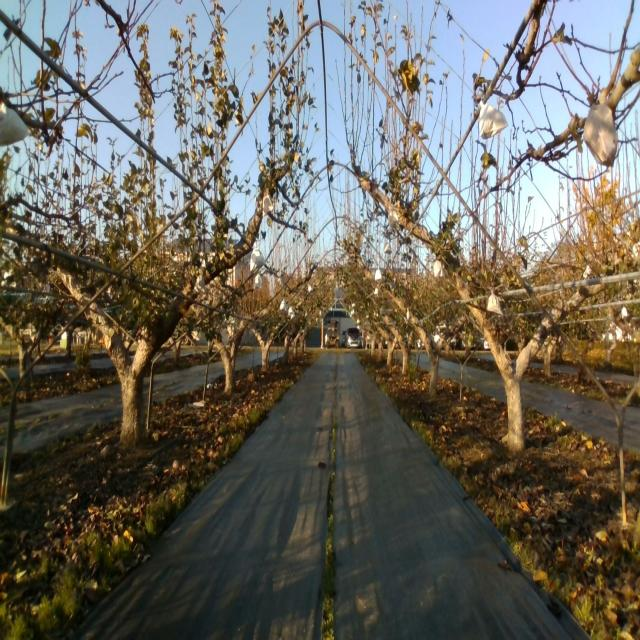pearbags: (584, 93, 620, 169), (478, 95, 508, 139), (250, 242, 266, 272), (487, 289, 505, 315), (262, 190, 274, 218), (193, 273, 207, 294), (386, 209, 399, 229), (432, 260, 444, 279)
